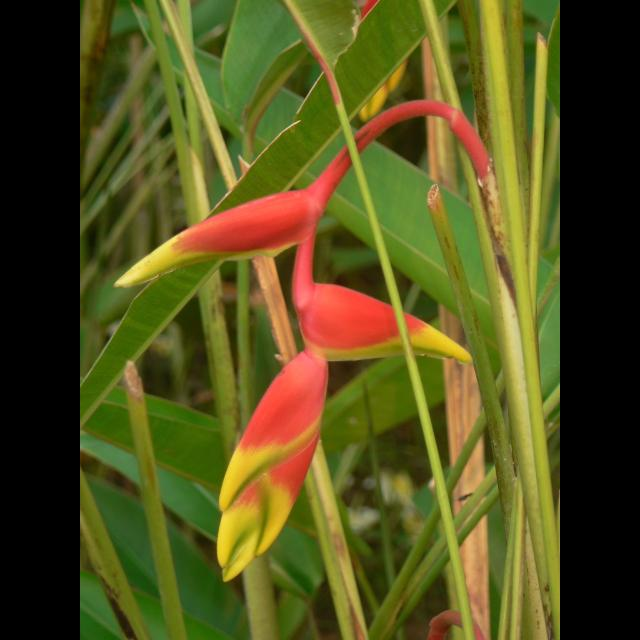Flower: (114, 180, 474, 590)
